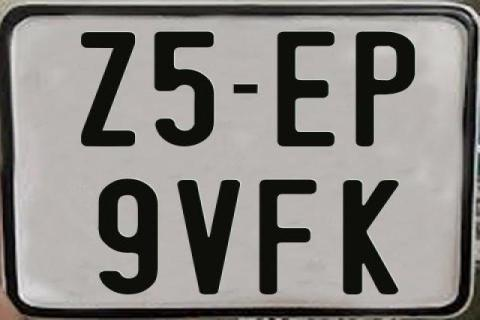0: (152, 31, 218, 147), (96, 178, 157, 298)
E: (275, 31, 334, 150)
F: (256, 179, 318, 295)
K: (341, 178, 399, 292)
P: (355, 30, 417, 148)
V: (176, 180, 241, 296)
Z: (80, 31, 134, 148)
